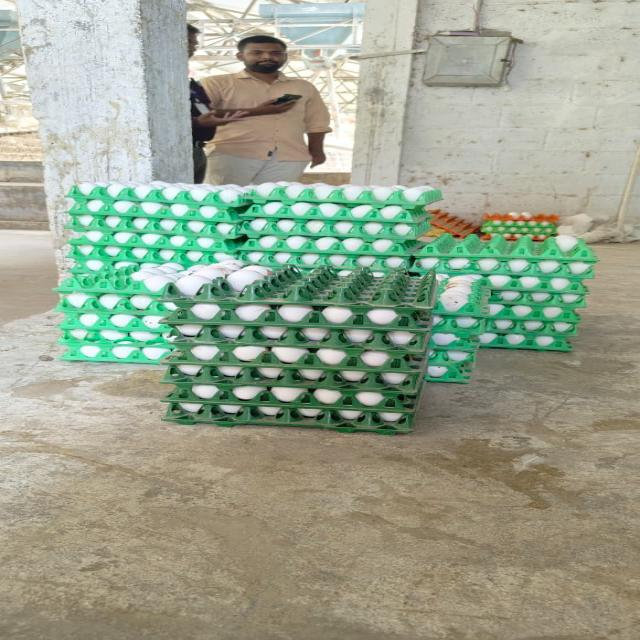egg_tray: (164, 268, 431, 432), (166, 268, 433, 388), (164, 345, 423, 432), (164, 266, 434, 330), (162, 364, 423, 430), (166, 344, 425, 410), (167, 266, 434, 329), (174, 304, 426, 368), (169, 302, 427, 364), (56, 263, 209, 362), (166, 344, 425, 392), (68, 200, 239, 272), (167, 264, 434, 310), (162, 385, 418, 432), (55, 259, 268, 314), (56, 268, 170, 363), (199, 267, 431, 310), (163, 356, 423, 394), (163, 382, 418, 420), (68, 220, 241, 272), (414, 234, 597, 280), (480, 273, 587, 350), (163, 401, 412, 434), (480, 274, 587, 350), (480, 275, 587, 350), (173, 324, 427, 354), (239, 235, 422, 272), (427, 274, 487, 382), (55, 264, 183, 314), (57, 312, 170, 363), (128, 258, 271, 298), (70, 200, 245, 232), (57, 294, 168, 343), (57, 314, 168, 361), (67, 246, 235, 274), (480, 303, 580, 350), (242, 201, 430, 226), (249, 182, 440, 206), (67, 181, 249, 206), (67, 214, 242, 240), (55, 262, 192, 295), (429, 274, 488, 350), (242, 218, 428, 242), (70, 230, 241, 256), (431, 274, 489, 350), (238, 250, 412, 275), (431, 274, 488, 350), (415, 258, 594, 281), (489, 278, 586, 320), (241, 235, 422, 257), (426, 314, 484, 382), (55, 286, 172, 315), (487, 275, 588, 306), (480, 318, 576, 350), (427, 325, 479, 382), (480, 320, 576, 350), (57, 310, 168, 335), (60, 341, 170, 364), (426, 336, 478, 382), (434, 274, 488, 318), (482, 318, 577, 340), (483, 212, 555, 240), (57, 328, 168, 346), (428, 316, 484, 351), (488, 303, 580, 324), (480, 331, 570, 350), (491, 290, 585, 308), (426, 350, 476, 382), (429, 210, 479, 237), (431, 313, 484, 338), (481, 220, 555, 236), (483, 225, 552, 240), (483, 212, 558, 224), (236, 304, 270, 316), (455, 316, 482, 330), (423, 226, 447, 241), (482, 233, 522, 240), (558, 238, 576, 251), (168, 311, 182, 326), (390, 332, 410, 342), (541, 261, 556, 272), (216, 226, 232, 236), (434, 314, 443, 331), (478, 258, 493, 268), (153, 219, 174, 226), (525, 234, 548, 240), (324, 308, 341, 316), (227, 261, 239, 272), (434, 314, 444, 327), (67, 292, 84, 299), (354, 330, 367, 339), (162, 265, 181, 271), (114, 350, 128, 358), (521, 276, 538, 282), (166, 301, 177, 310), (286, 306, 300, 313), (307, 333, 319, 341), (514, 238, 532, 243), (269, 376, 279, 385), (215, 263, 225, 272), (245, 265, 262, 270), (364, 354, 376, 361), (56, 302, 65, 310), (577, 262, 586, 270), (552, 278, 568, 282), (291, 306, 299, 314), (489, 237, 503, 241), (562, 316, 573, 321), (435, 315, 441, 324), (330, 404, 343, 408), (511, 263, 521, 268), (104, 216, 110, 224), (199, 264, 209, 268), (323, 330, 329, 336), (271, 380, 280, 384), (247, 266, 259, 269), (544, 238, 552, 242), (132, 296, 147, 298), (109, 271, 116, 275), (175, 283, 179, 290), (552, 262, 557, 267), (433, 233, 441, 236), (224, 315, 228, 321), (493, 276, 505, 278), (203, 278, 210, 281), (252, 227, 259, 230), (238, 352, 243, 356), (247, 352, 257, 354), (579, 253, 583, 258), (159, 276, 162, 282), (444, 319, 450, 322), (207, 266, 216, 268), (72, 222, 76, 226), (72, 227, 77, 230), (518, 258, 523, 261), (486, 264, 491, 267), (551, 267, 556, 270), (159, 270, 163, 273), (358, 322, 361, 326), (318, 382, 322, 385), (541, 340, 547, 342), (131, 218, 137, 220), (170, 356, 173, 360), (66, 357, 76, 358), (575, 282, 580, 284), (513, 258, 518, 260), (453, 258, 458, 260), (490, 312, 493, 315), (540, 344, 544, 346), (114, 216, 118, 218), (454, 264, 458, 266), (255, 320, 258, 322), (124, 267, 130, 268), (194, 282, 197, 284), (104, 294, 108, 295), (449, 319, 450, 322), (151, 283, 152, 285), (228, 424, 230, 425), (112, 220, 114, 221), (198, 276, 200, 277), (360, 325, 361, 326), (192, 336, 193, 337), (272, 358, 274, 358), (259, 352, 263, 352), (154, 276, 156, 276), (302, 334, 302, 334), (364, 330, 365, 330), (447, 319, 448, 319), (80, 358, 84, 358), (584, 288, 585, 288), (272, 328, 272, 328), (186, 294, 188, 294), (151, 203, 152, 203), (487, 259, 492, 259), (230, 261, 230, 261), (307, 416, 312, 416)
